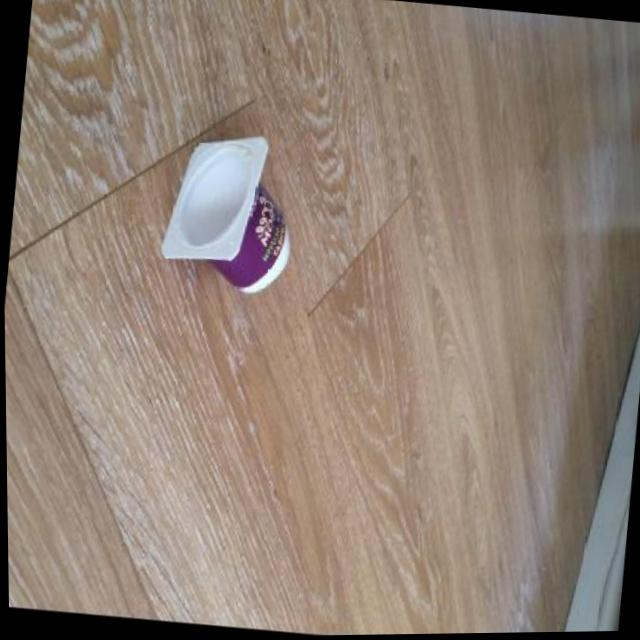plastic: (155, 127, 303, 300)
